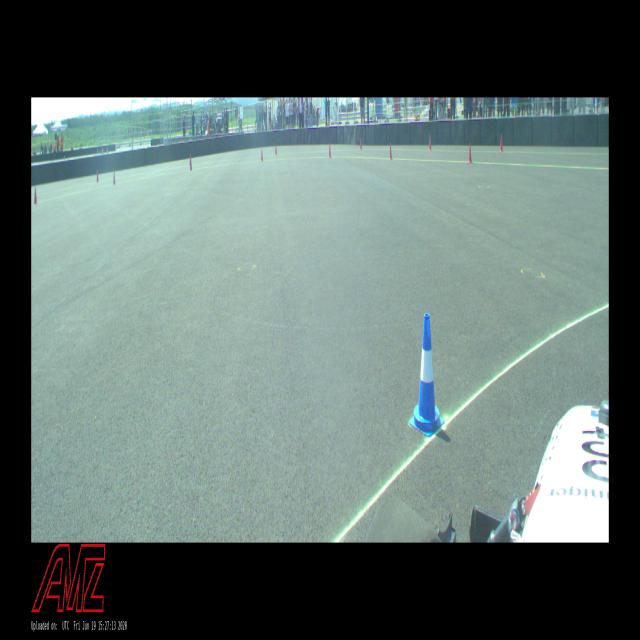blue_cone: (409, 313, 444, 436)
